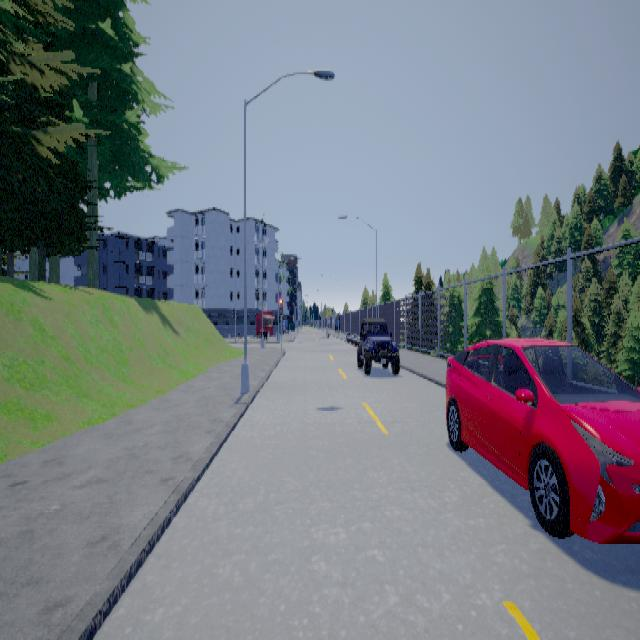vehicle: (447, 337, 640, 542), (358, 317, 401, 374)
